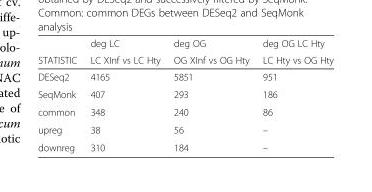table: (37, 37, 333, 152)
table column: (166, 37, 255, 152), (82, 37, 166, 152), (255, 37, 333, 152), (37, 37, 82, 152)
table column header: (37, 37, 333, 67)
table row: (37, 67, 333, 85), (37, 102, 333, 120), (37, 120, 333, 138), (37, 85, 333, 102), (37, 51, 333, 67), (37, 37, 333, 51), (37, 138, 333, 152)
table spanning cell: (166, 37, 255, 67), (82, 37, 166, 67), (255, 37, 333, 67), (37, 37, 82, 67)
